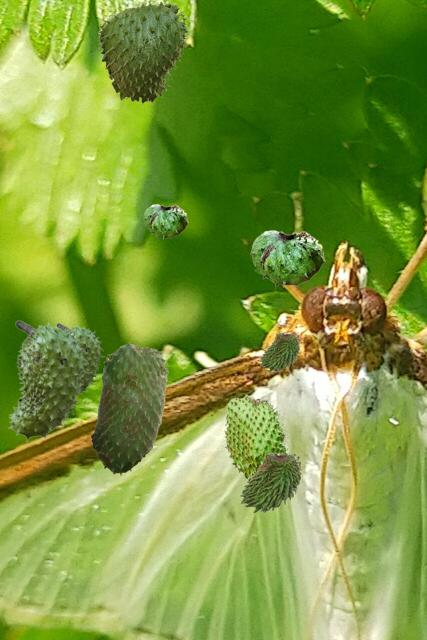guyabano: (90, 342, 168, 474), (7, 320, 90, 441), (98, 0, 189, 105), (223, 394, 290, 483), (250, 230, 324, 288), (239, 450, 301, 512), (57, 323, 104, 393), (259, 331, 299, 371), (143, 204, 187, 239)
